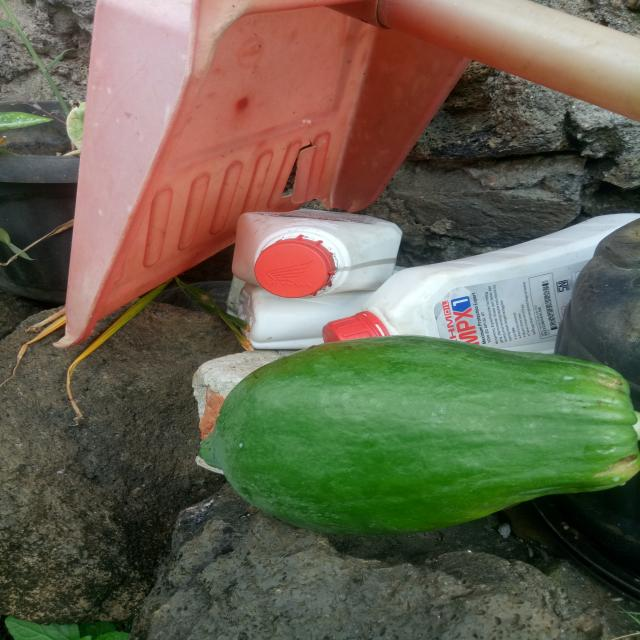Pepaya unrippen: (187, 340, 640, 543)
